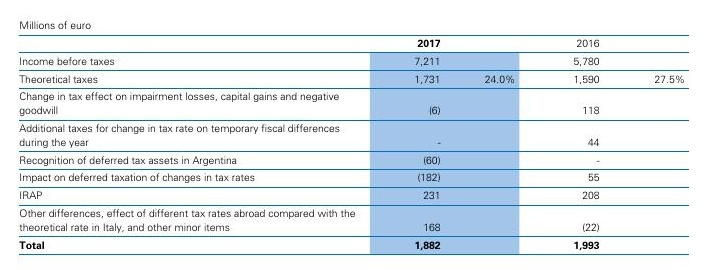table: (0, 0, 709, 270)
